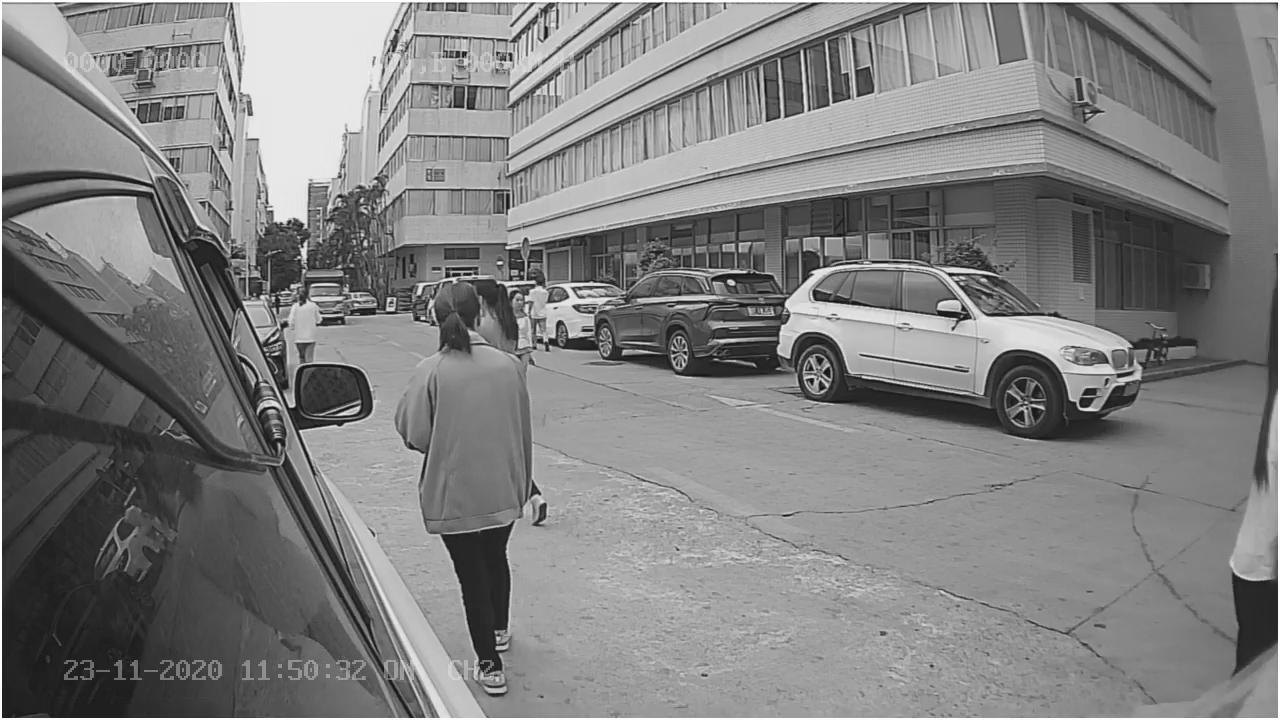person: (395, 281, 536, 476)
